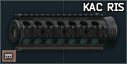AR-15 KAC RIS handguard: (0, 0, 127, 64)
